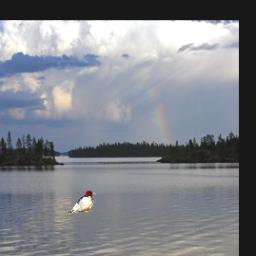Woodpecker: (66, 191, 96, 214)
